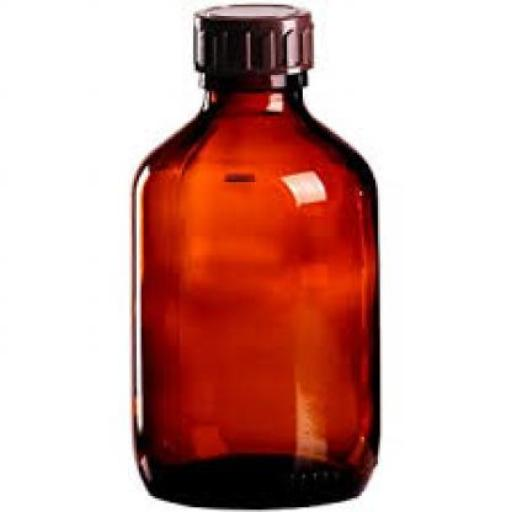glass: (132, 84, 378, 510)
plastic: (190, 0, 312, 71)
